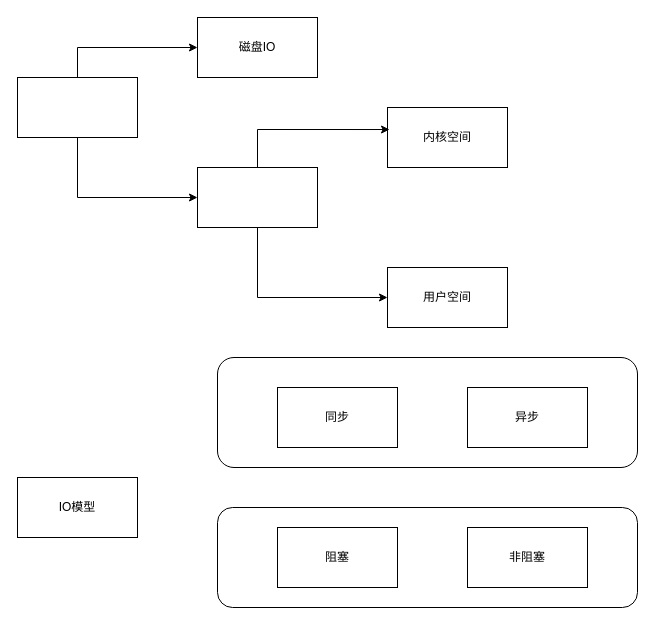
The diagram is 655 pixels wide and 625 high, and some of its shapes have lost their labels. The shapes that lost their labels are listed below. From the top down, each one's box as (x1, y1, x2, y2) in pixels, then its label:
(16, 76, 138, 138): IO流程
(196, 166, 318, 228): 网络IO
